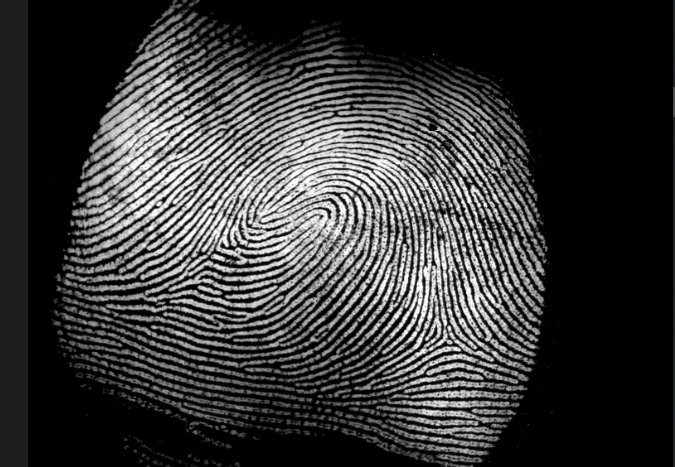nucelo: (305, 207, 327, 231)
verticilo: (196, 244, 230, 262), (427, 329, 455, 350)
